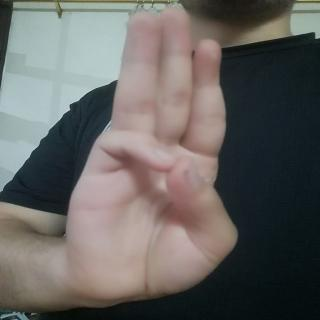THA: (61, 0, 233, 278)
